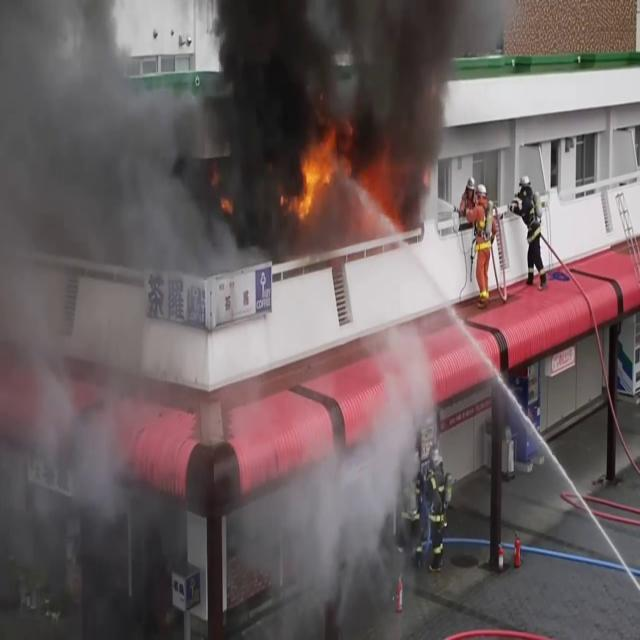Fire: (292, 119, 344, 218)
Smoke: (1, 0, 472, 287), (0, 0, 193, 594), (200, 0, 470, 220)
